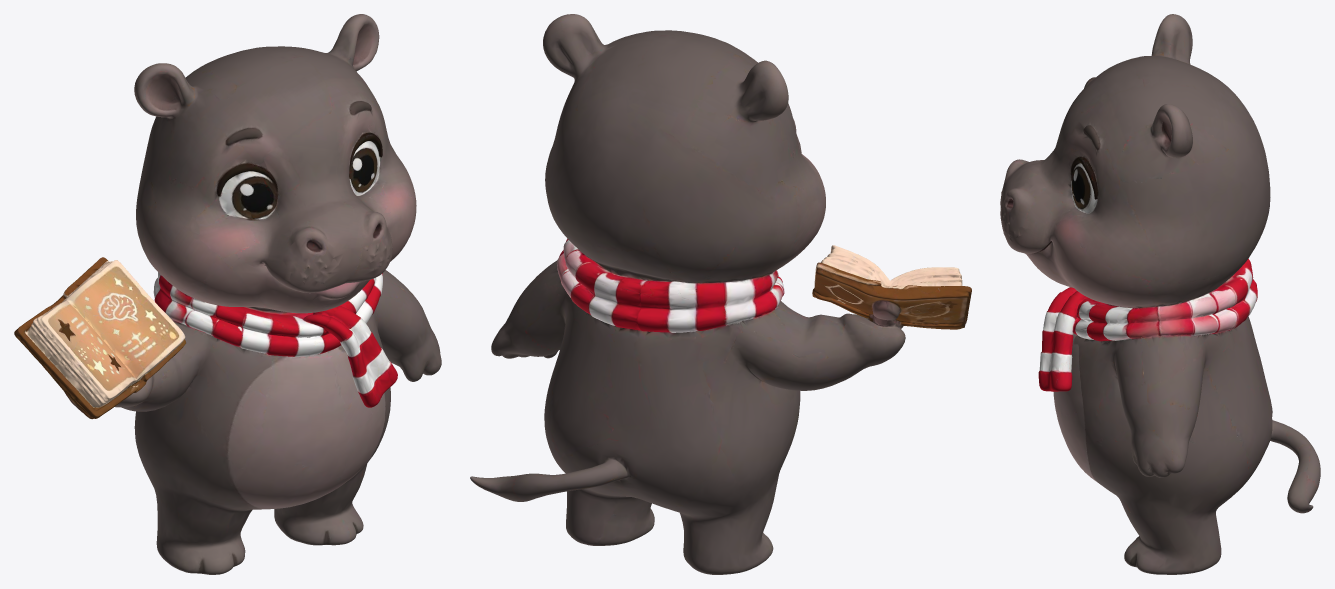
The model's file is librarian-hippo.glb.
3 views of the same model, side by side, from view 1: azimuth 30°, elevation 25°; view 2: azimuth 150°, elevation 25°; view 3: azimuth 270°, elevation 25° (orthographic). The views are drawn at different scales.
Size of the model in its own units: 1.77 by 1.9 by 1.17.
1 material, 1 textured.
